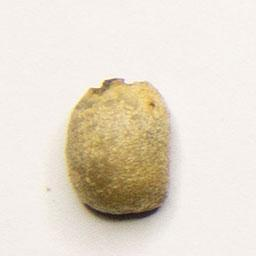defect: (62, 75, 173, 218)
